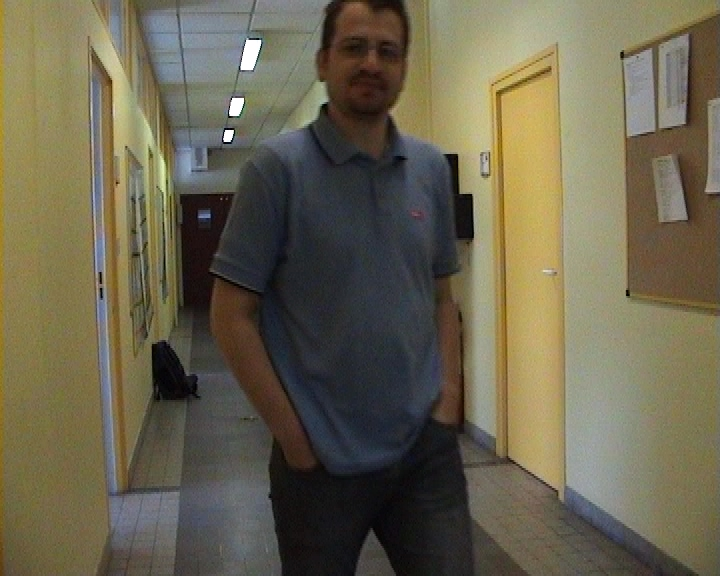leave bag unattended: (127, 319, 221, 418)
